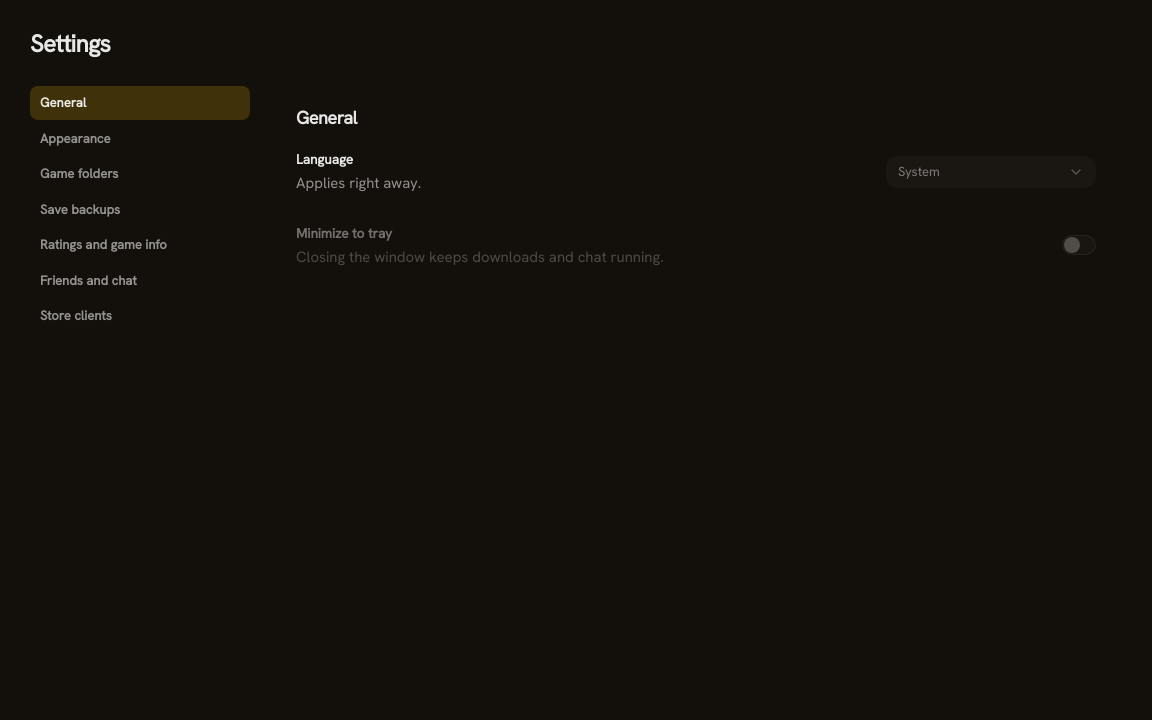
Scenario: a22 settings › renders the lab category nav and switches bodies
This screenshot has width=1152, height=720.
Expected: the button "General" is shown, [30,86,250,120]
Expected: the button "Appearance" is shown, [30,122,250,155]
What coordinates should you click on to do the following:
click the button "Friends and chat"
I would click on:
 (140, 280)
Its box is [30,264,250,297].
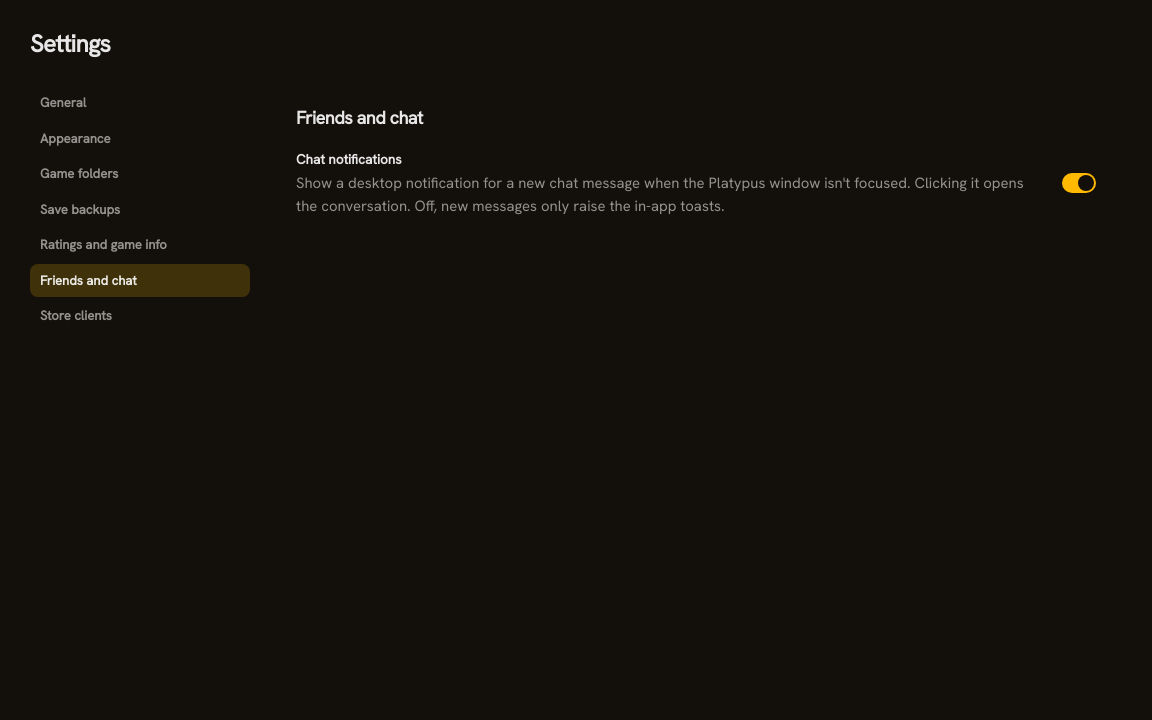
Result: the text "Chat notifications" is shown at [296,150,402,168]
What coordinates should you click on to do the following:
click the button "Ratings and game info"
I would click on:
 (140, 245)
Its box is [30,228,250,262].
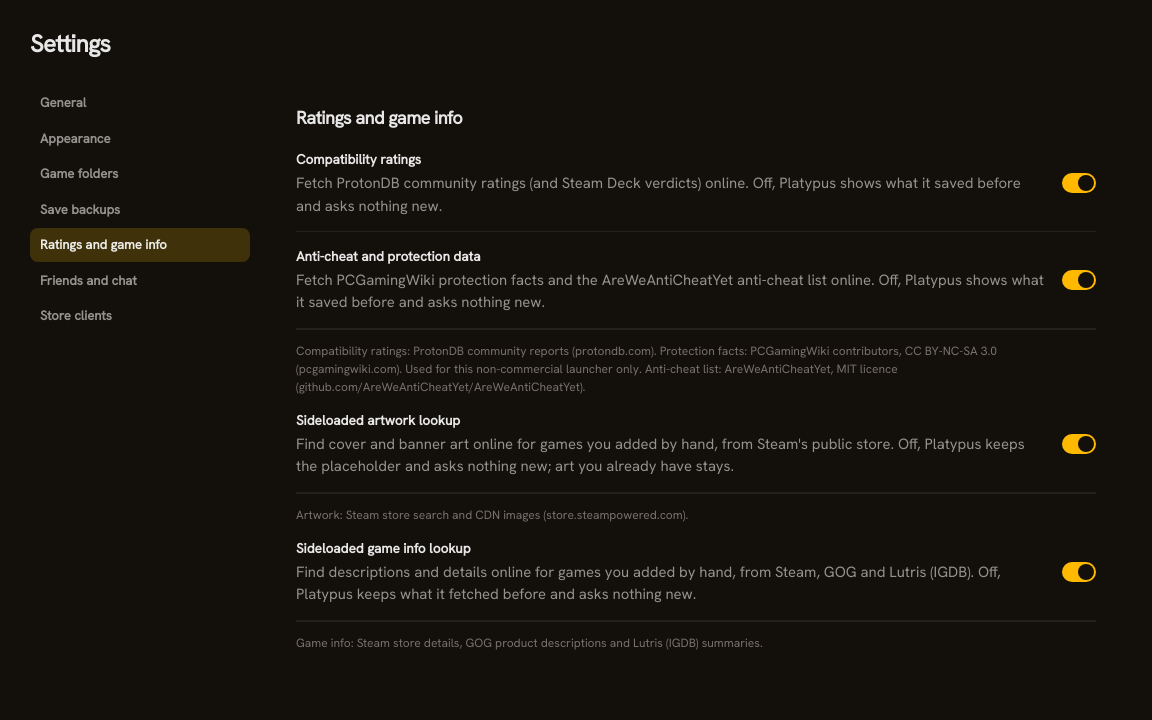
Result: the switch labelled "Compatibility ratings" is shown at [296,135,1096,232]
Result: the switch labelled "Anti-cheat and protection data" is shown at [296,232,1096,329]
What coordinates should you click on to do the following:
click the button "Store clients"
I would click on:
 (140, 316)
Its box is [30,299,250,332].
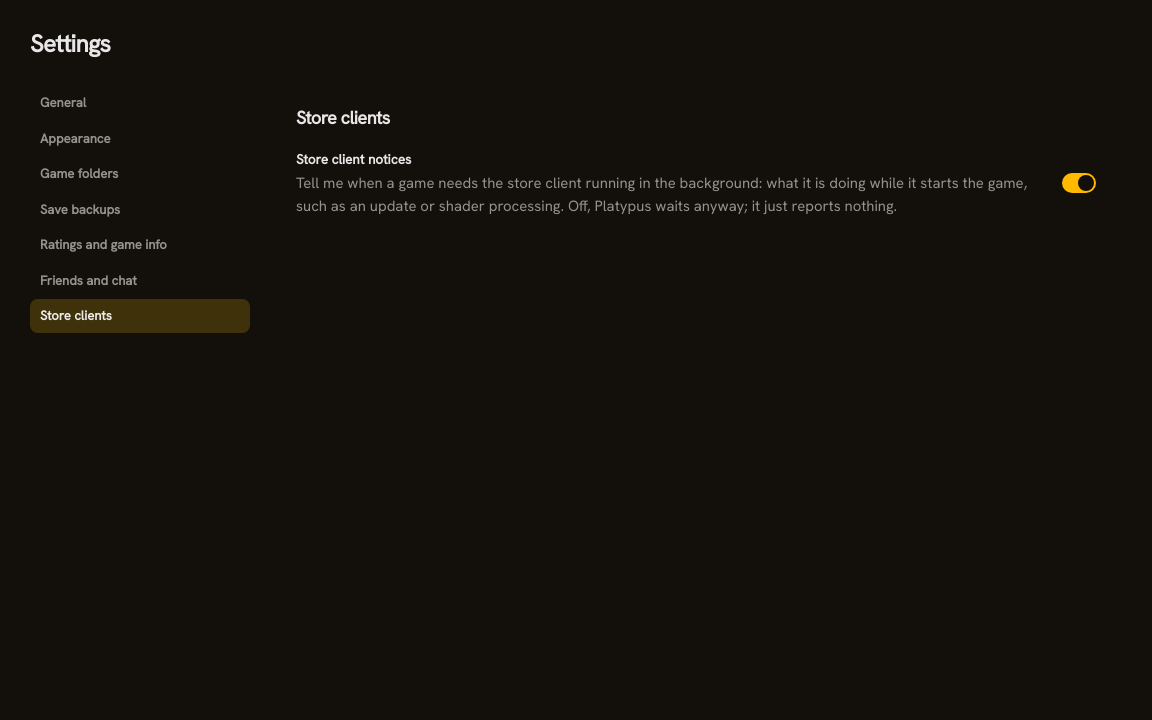
Result: the switch labelled "Store client notices" is shown at [296,135,1096,231]
